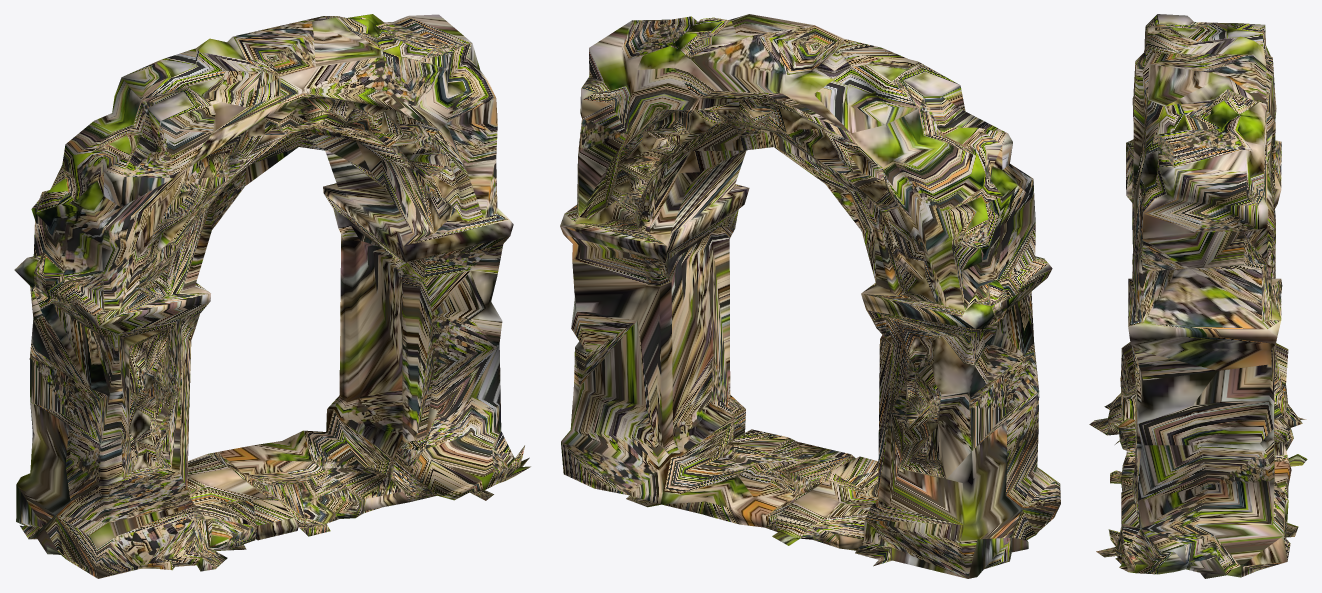
Rendered from Ancient_Archway.glb.
3 renders of one model, left to right at view 1: azimuth 30°, elevation 25°; view 2: azimuth 150°, elevation 25°; view 3: azimuth 270°, elevation 25°, orthographic. The views are drawn at different scales.
Visible parts, largest first — view 1: Ancient_Archway; view 2: Ancient_Archway; view 3: Ancient_Archway.
Part boxes in pixels (x1,y1,x2,y2): Ancient_Archway: (14,14,530,578); Ancient_Archway: (560,14,1060,578); Ancient_Archway: (1089,14,1307,578).
Bounding box in the file's own units: 1.9 × 1.85 × 0.8575.
1 material, 1 textured.
